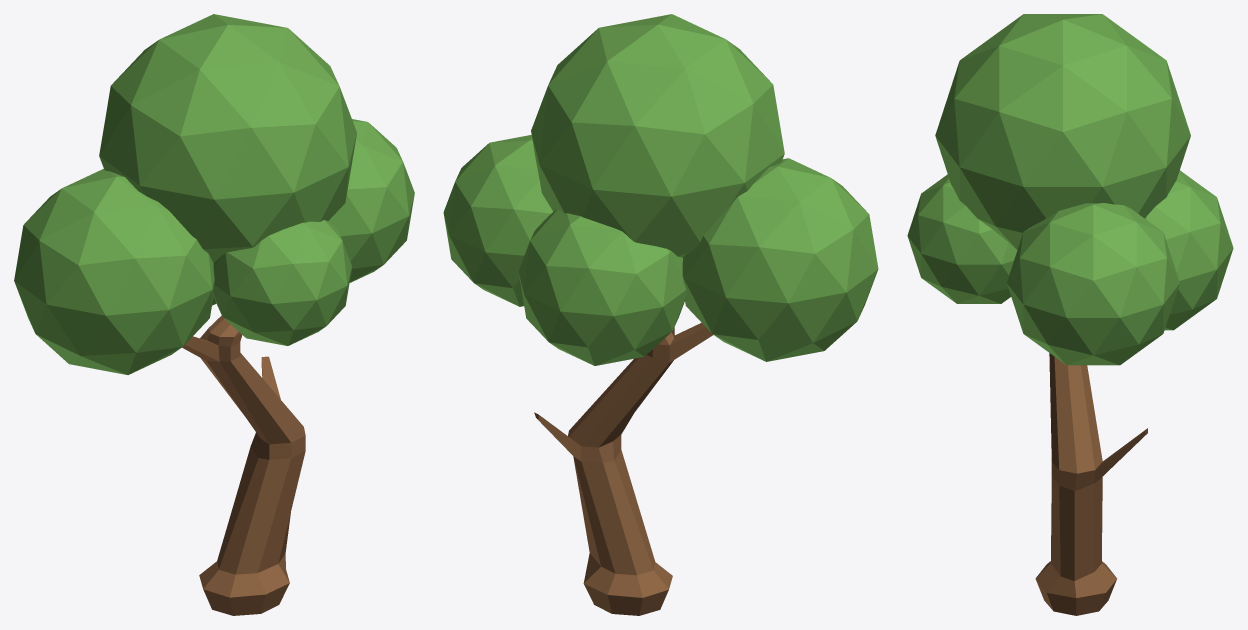
File: Tree1.fbx
The picture shows the model from 3 angles, left to right: view 1: azimuth 30°, elevation 25°; view 2: azimuth 150°, elevation 25°; view 3: azimuth 270°, elevation 25°; orthographic projection. The views are drawn at different scales.
Parts seen in each view (by area): view 1: Icosphere.001, Icosphere, Cube.022, Icosphere.004, Icosphere.002; view 2: Icosphere.001, Icosphere, Icosphere.003, Cube.022, Icosphere.002; view 3: Icosphere.001, Icosphere.002, Cube.022, Icosphere.004, Icosphere.003.
Part boxes in pixels (bbox=[...]): Icosphere.001: bbox=[99, 14, 356, 262]; Icosphere: bbox=[14, 168, 214, 374]; Cube.022: bbox=[182, 315, 305, 615]; Icosphere.004: bbox=[213, 220, 352, 345]; Icosphere.002: bbox=[328, 119, 414, 282]; Icosphere.001: bbox=[531, 14, 784, 257]; Icosphere: bbox=[682, 158, 878, 361]; Icosphere.003: bbox=[518, 209, 687, 365]; Cube.022: bbox=[534, 323, 713, 615]; Icosphere.002: bbox=[443, 135, 553, 306]; Icosphere.001: bbox=[935, 14, 1190, 249]; Icosphere.002: bbox=[1007, 203, 1179, 365]; Cube.022: bbox=[1035, 353, 1147, 615]; Icosphere.004: bbox=[907, 174, 1017, 303]; Icosphere.003: bbox=[1145, 170, 1233, 330].
Size of the model in its own units: 431 by 618 by 321.
